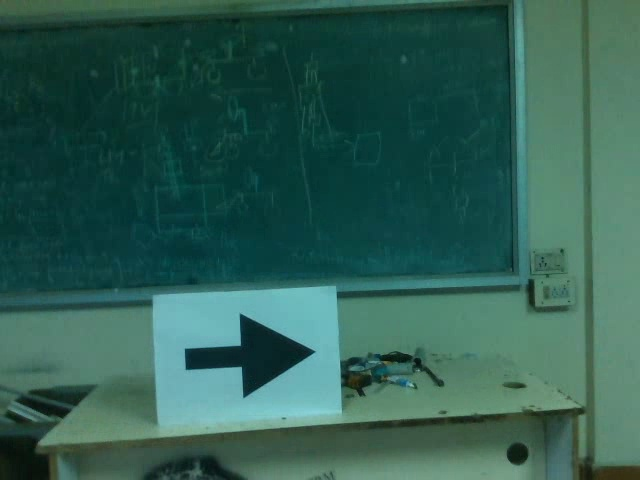Right: (174, 307, 322, 401)
